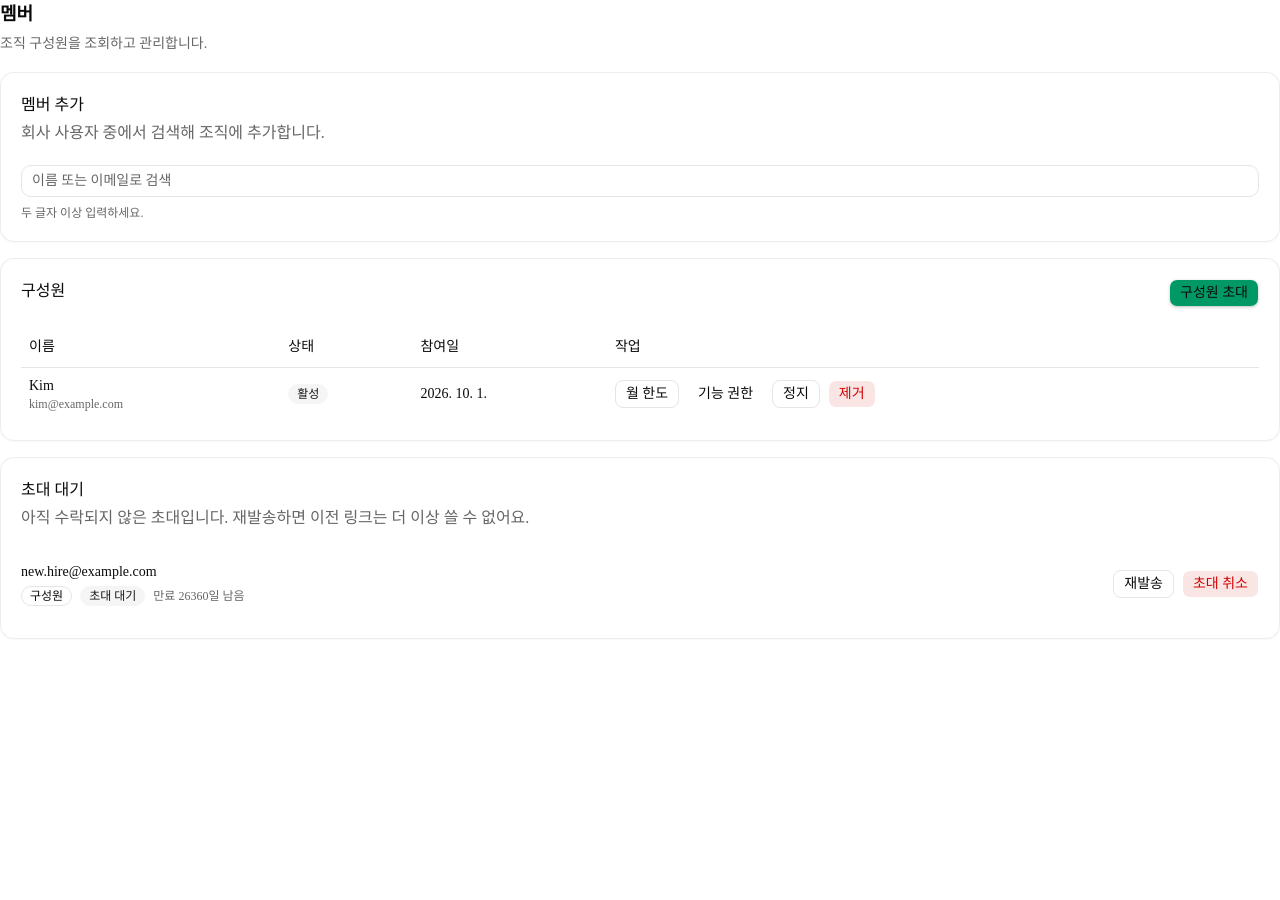
Scenario: OrgMembersContent invitations and limits (S10/S11) › resends an invitation and shows the new link to copy
Click the button "재발송".
click(1144, 584)  # box 1113,570 -> 1174,598
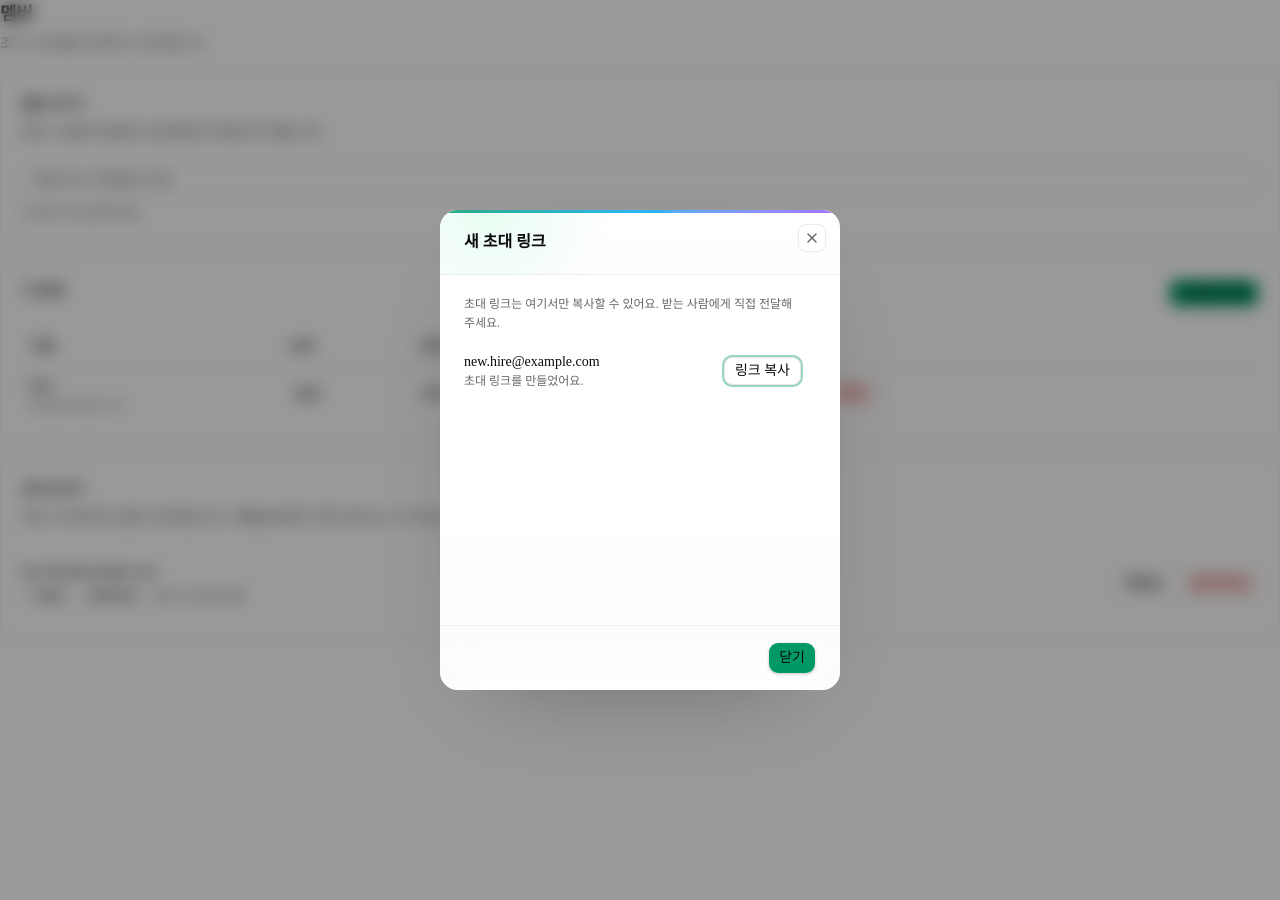
Expected: the button with aria-label "new.hire@example.com 초대 링크 복사" is shown, 724,358 -> 801,386
